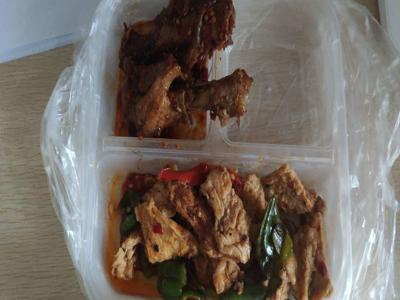jt: (121, 3, 250, 139)
